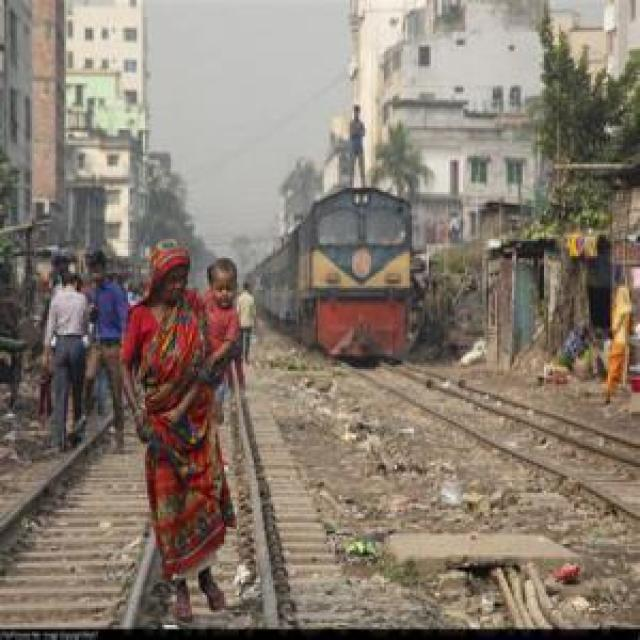danger: (113, 238, 265, 615), (32, 260, 90, 453), (85, 242, 126, 449), (605, 262, 637, 401), (345, 89, 370, 190)
rail: (0, 390, 315, 638), (347, 359, 640, 552)
